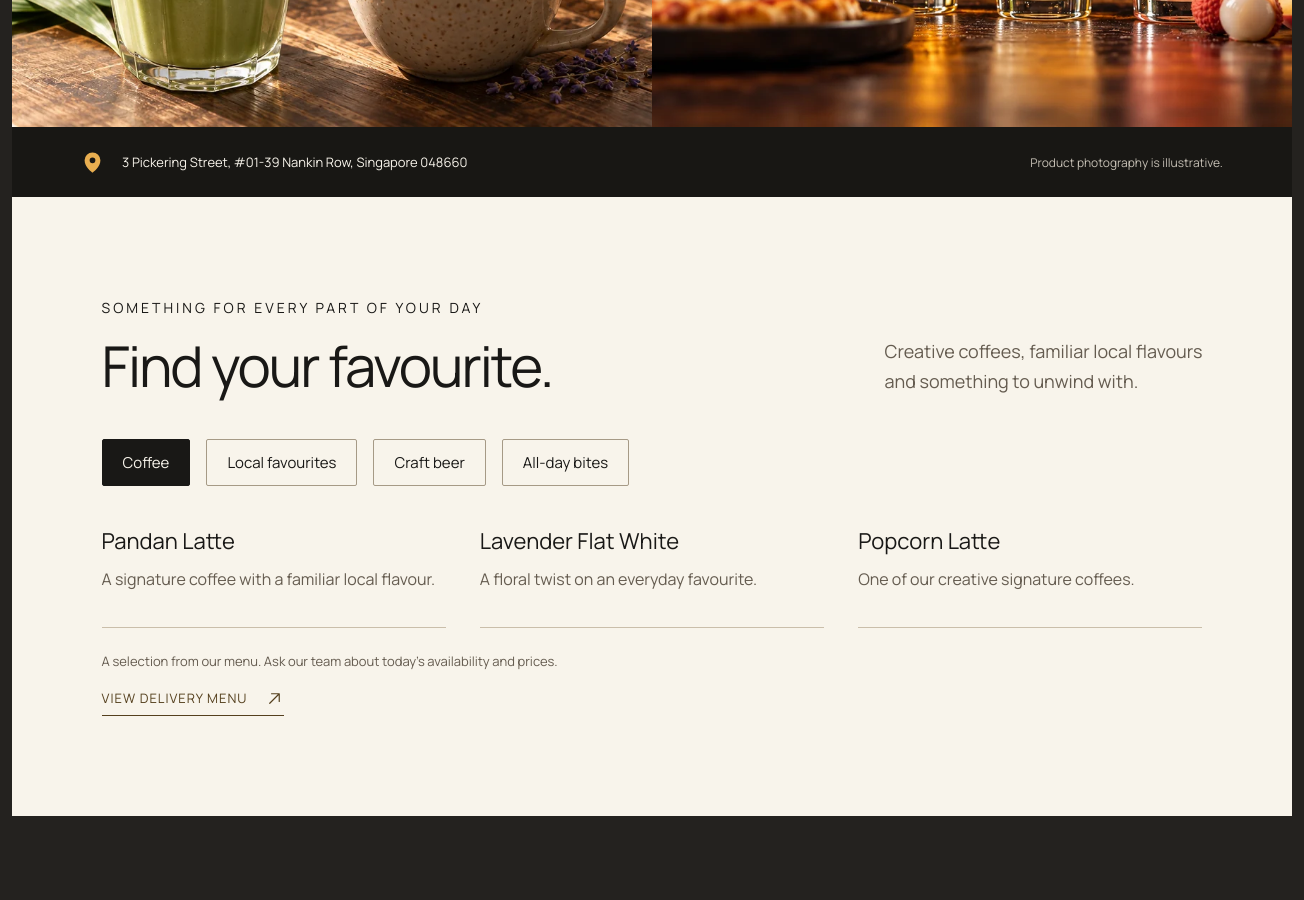
Test: visitor menu and navigation › switches all menu categories and exposes the selected state
(page scrolled)
Click the button "Local favourites". click: (282,462)
box: [206, 439, 358, 486]
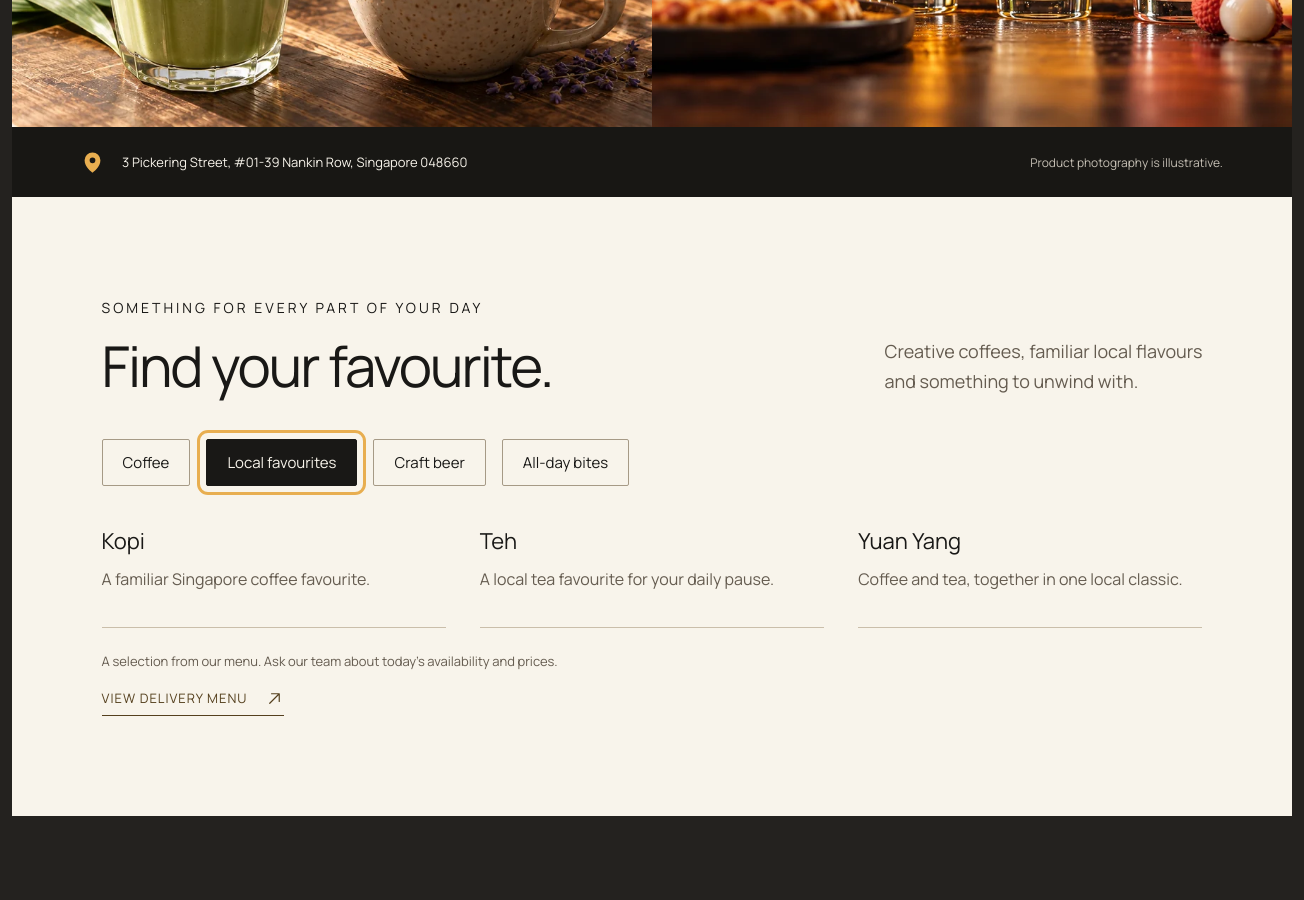
Now the heading "Kopi" is shown, box [102, 526, 145, 556]
Click the button "Craft beer". click: (430,462)
box: [374, 439, 486, 486]
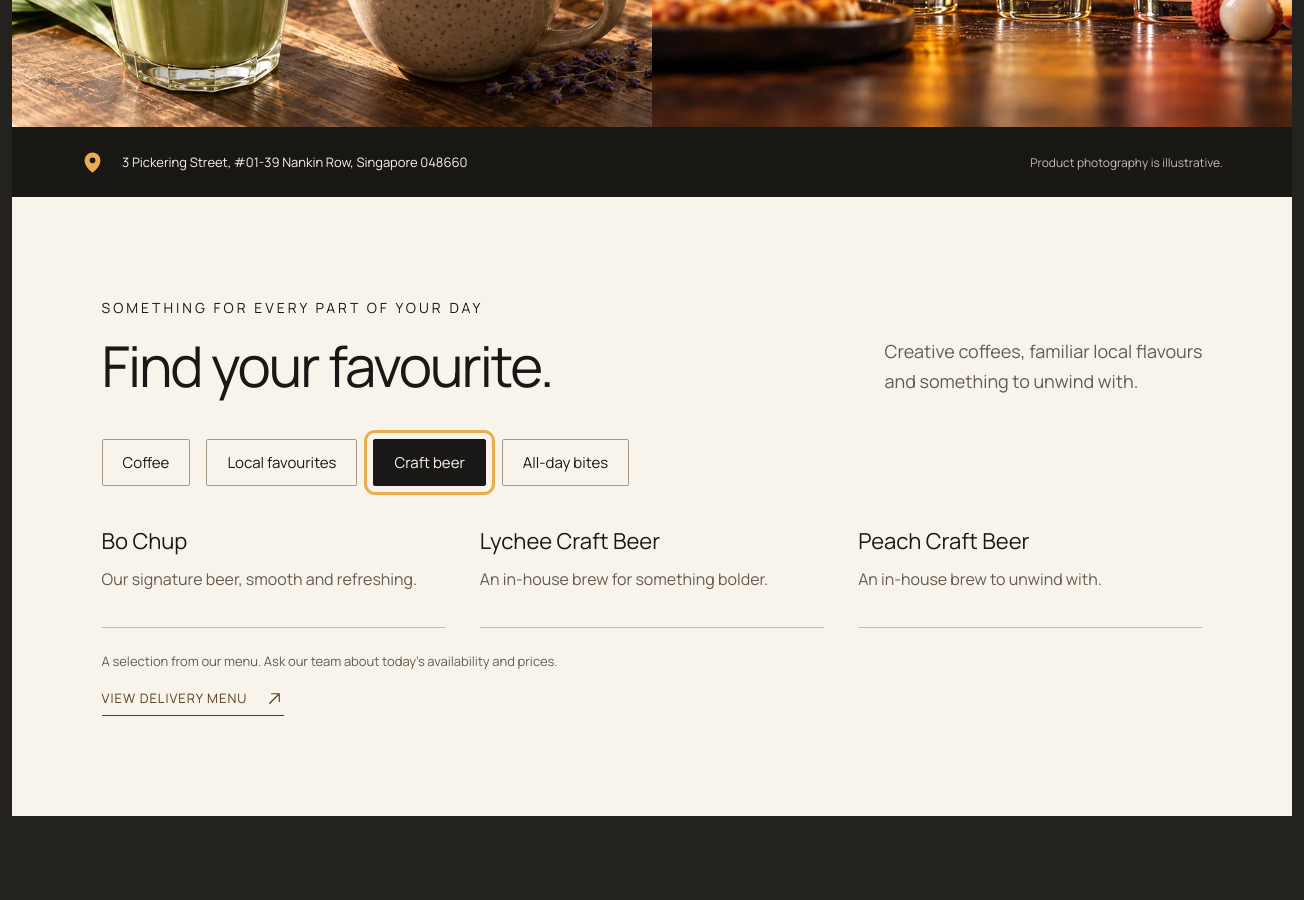
Now the heading "Bo Chup" is shown, box [102, 526, 187, 556]
Click the button "All-day bites". click: (565,462)
box: [502, 439, 629, 486]
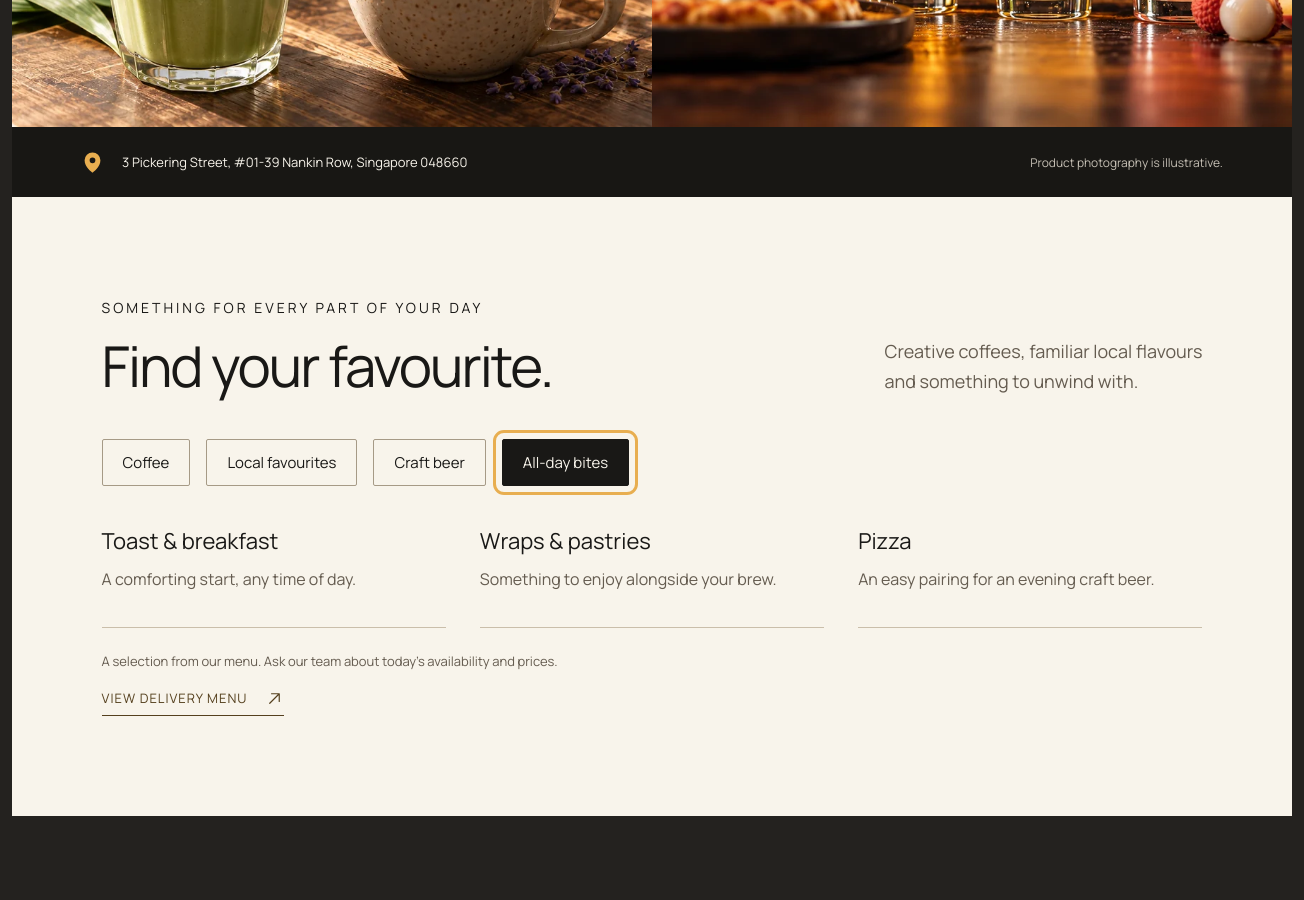
Now the heading "Pizza" is shown, box [858, 526, 911, 556]
Click the button "Coffee". click: (146,462)
box: [102, 439, 190, 486]
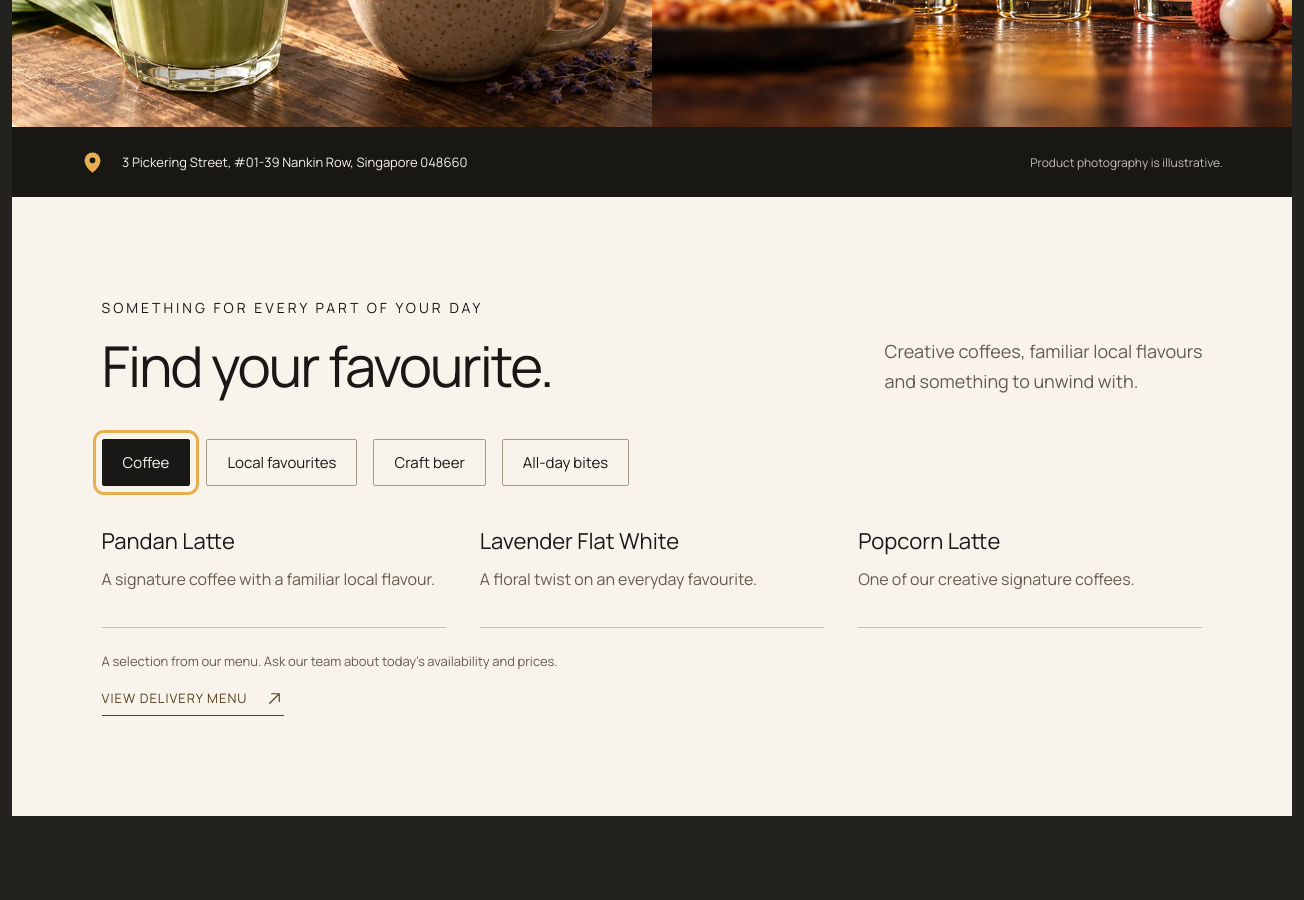
Now the heading "Pandan Latte" is shown, box [102, 526, 235, 556]
